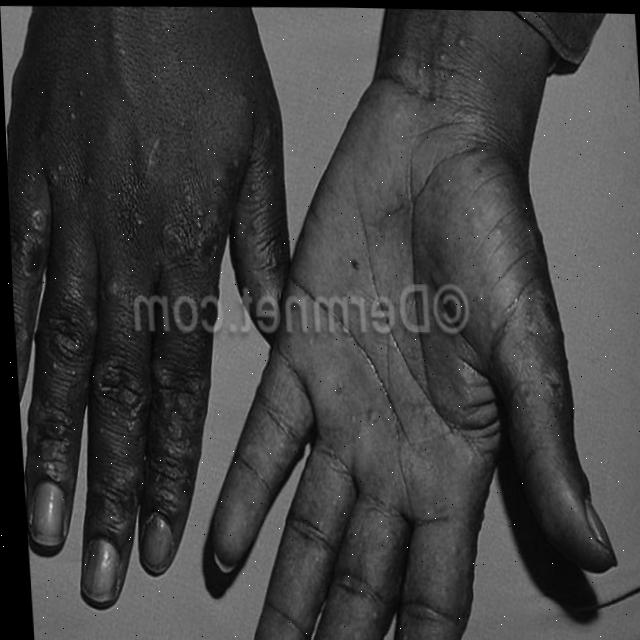Eczema: (255, 265, 561, 600), (9, 211, 217, 502)
